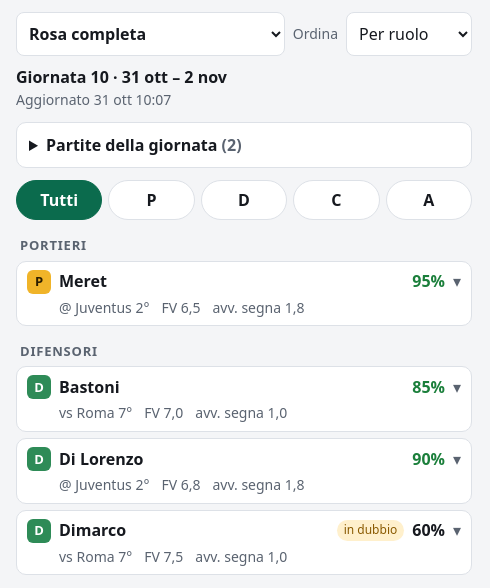
Test case: Titolarità: highest start chance first, unknown last, one list without role headers
This screenshot has width=490, height=588.
Select "Titolarità" in the dropdown labelled "Ordina" at (409, 34), box left=346, top=12, right=472, bottom=56
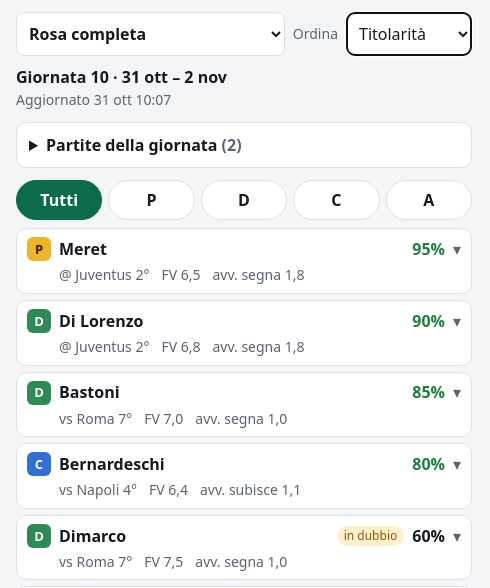
Expected: no the heading "Portieri" are shown
